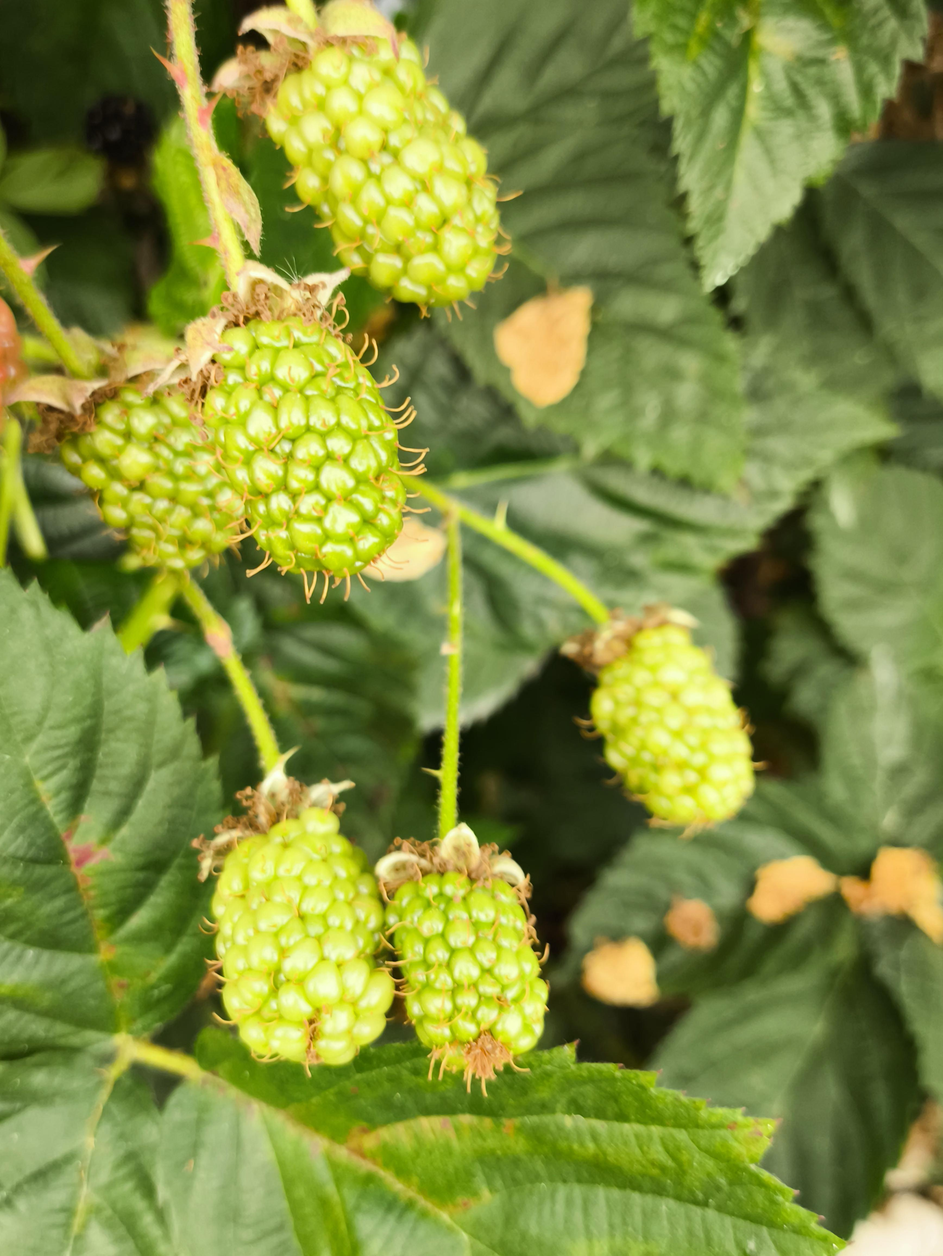verde: (266, 36, 507, 309), (196, 307, 402, 573), (212, 802, 395, 1068), (375, 826, 546, 1093), (591, 612, 754, 828), (60, 386, 241, 571)
